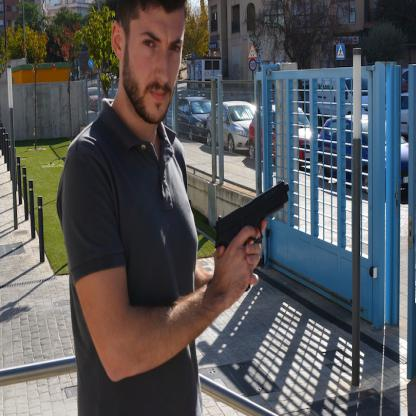gun: (212, 179, 289, 292)
